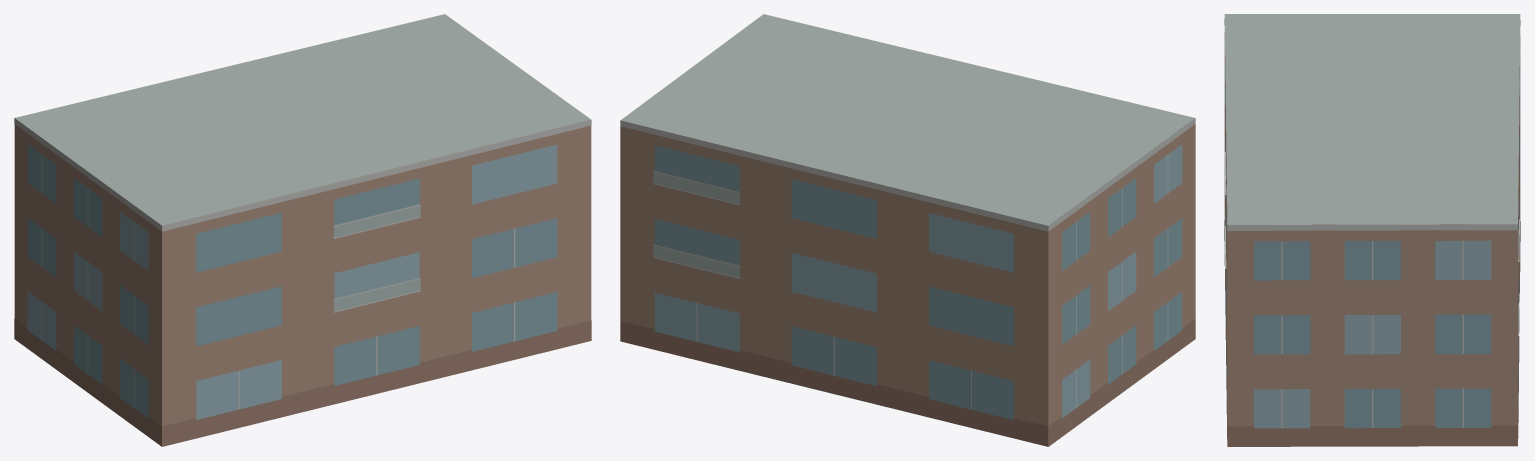
File: survey-upis-32974433.glb
The picture shows the model from 3 angles, left to right: view 1: azimuth 30°, elevation 25°; view 2: azimuth 150°, elevation 25°; view 3: azimuth 270°, elevation 25°; orthographic projection.
Parts seen in each view (by area): view 1: survey-upis-32974433.tmp; view 2: survey-upis-32974433.tmp; view 3: survey-upis-32974433.tmp.
Part boxes in pixels (x1,y1,x2,y2): survey-upis-32974433.tmp: (14,14,591,446); survey-upis-32974433.tmp: (620,14,1195,446); survey-upis-32974433.tmp: (1224,14,1520,446).
Bounding box in the file's own units: 18.67 × 9.15 × 11.07.
